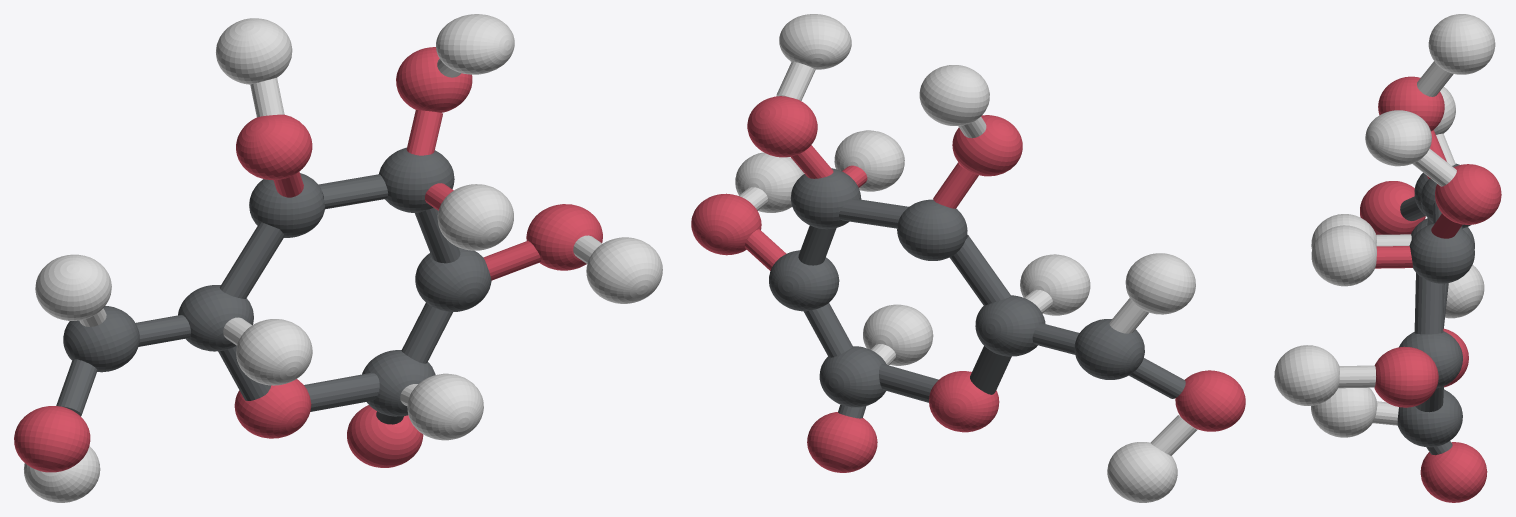
The model's file is molecula.glb.
3 views of the same model, side by side, from view 1: azimuth 30°, elevation 25°; view 2: azimuth 150°, elevation 25°; view 3: azimuth 270°, elevation 25° (orthographic). The views are drawn at different scales.
Parts seen in each view (by area): view 1: Mesh_Mesh_head_geo.001_lambert2SG.001; view 2: Mesh_Mesh_head_geo.001_lambert2SG.001; view 3: Mesh_Mesh_head_geo.001_lambert2SG.001.
Part boxes in pixels (x1,y1,x2,y2): Mesh_Mesh_head_geo.001_lambert2SG.001: (14, 14, 662, 502); Mesh_Mesh_head_geo.001_lambert2SG.001: (691, 14, 1245, 502); Mesh_Mesh_head_geo.001_lambert2SG.001: (1274, 14, 1501, 502).
Size of the model in its own units: 31 by 23.48 by 11.36.
